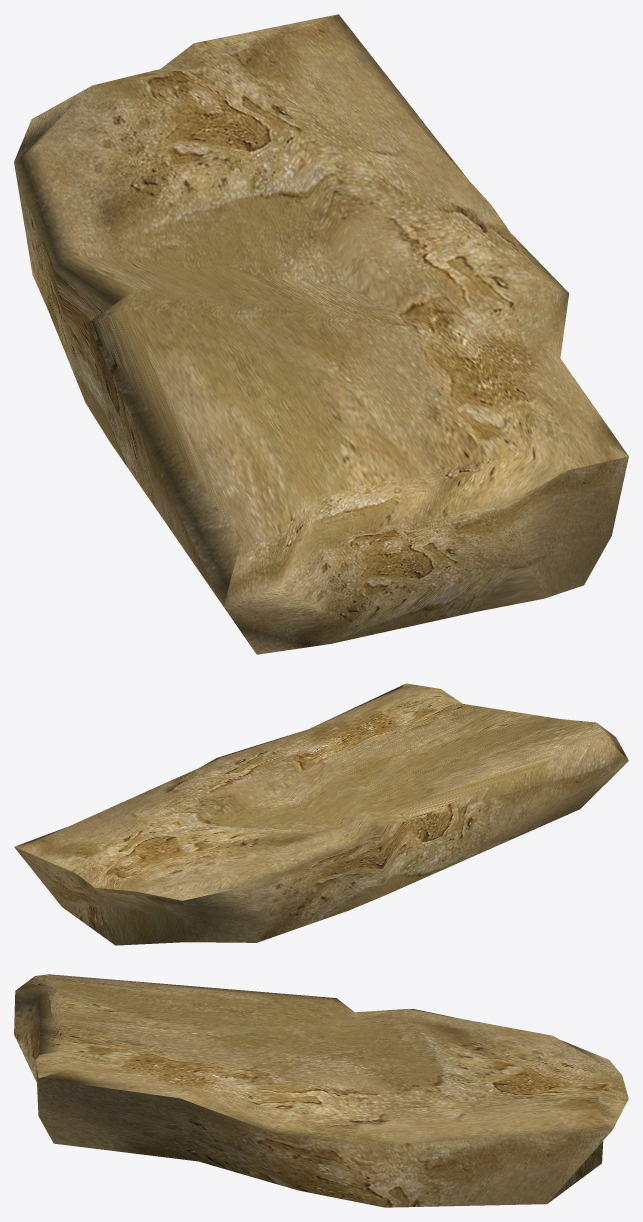
File: rock_caveA_floor.fbx
The picture shows the model from 3 angles, top to bottom: view 1: azimuth 30°, elevation 25°; view 2: azimuth 150°, elevation 25°; view 3: azimuth 270°, elevation 25°; orthographic projection. The views are drawn at different scales.
Visible parts, largest first — view 1: rock_cave_a_floor_hi; view 2: rock_cave_a_floor_hi; view 3: rock_cave_a_floor_hi.
Boxes of the visible parts, x1,y1,x2,y2 form: rock_cave_a_floor_hi: [14, 14, 628, 654]; rock_cave_a_floor_hi: [14, 683, 628, 945]; rock_cave_a_floor_hi: [14, 974, 628, 1207].
Size of the model in its own units: 1666 by 391 by 2503.
Materials: 1 (1 with a texture image).
